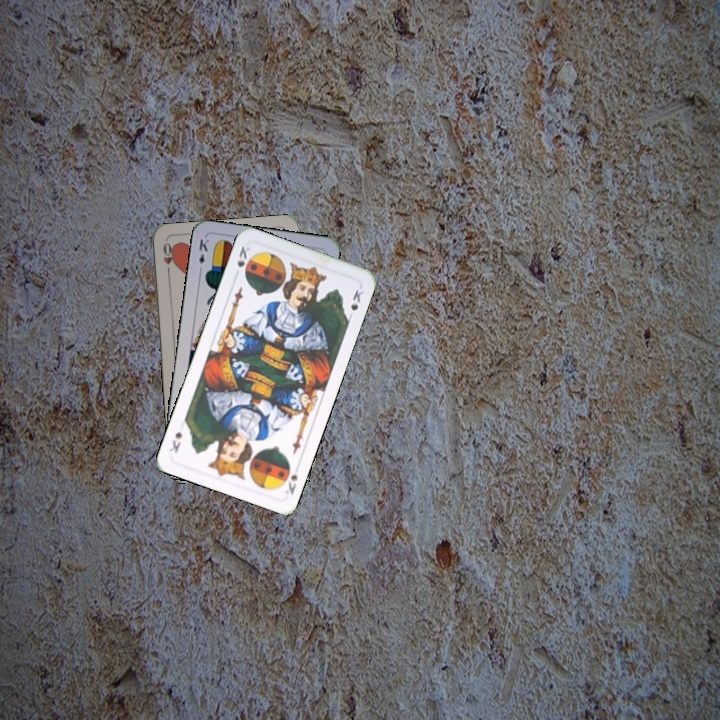EK: (195, 235, 212, 275)
HO: (159, 239, 176, 279)
SK: (230, 242, 252, 280), (281, 469, 301, 497)
